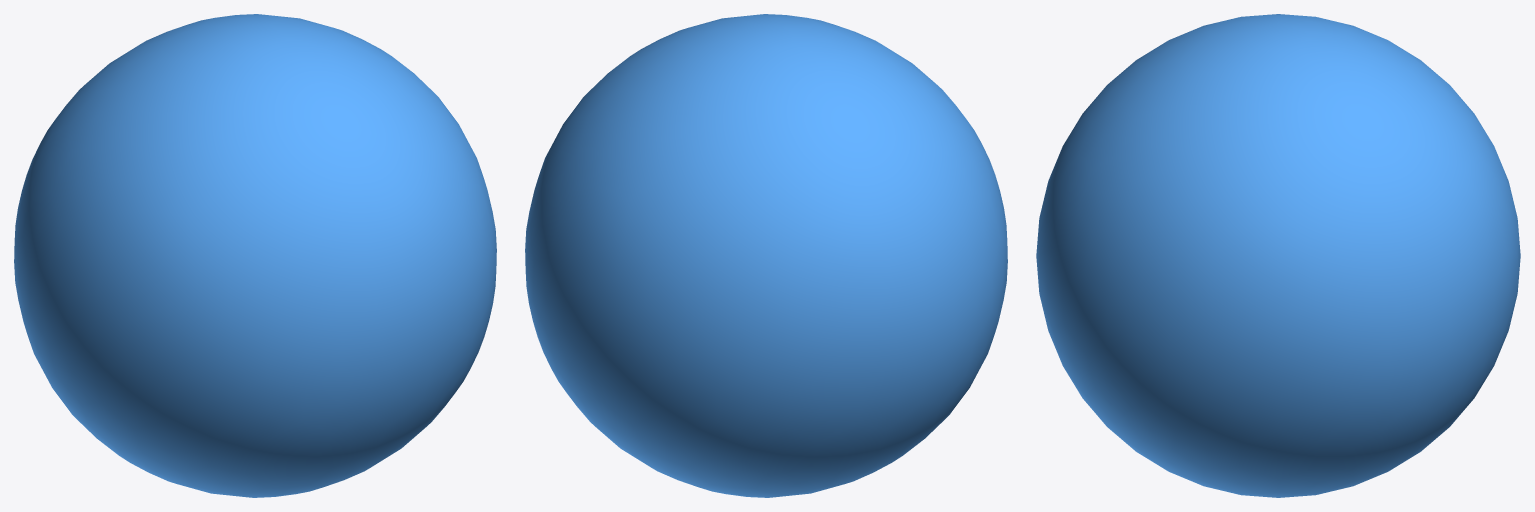
The model's file is planet.glb.
3 views of the same model, side by side, from view 1: azimuth 30°, elevation 25°; view 2: azimuth 150°, elevation 25°; view 3: azimuth 270°, elevation 25° (orthographic).
Parts seen in each view (by area): view 1: atmos; view 2: atmos; view 3: atmos.
Boxes of the visible parts, x1,y1,x2,y2 form: atmos: (14,14,496,497); atmos: (525,14,1007,497); atmos: (1036,14,1520,497).
Bounding box in the file's own units: 49.06 × 49.34 × 49.08.
